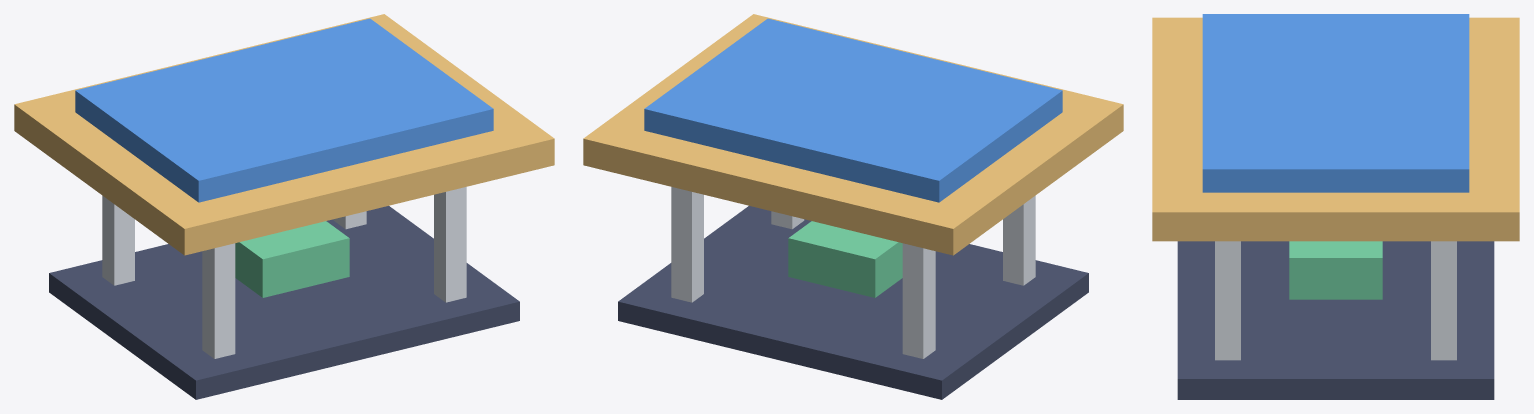
The model's file is demo-pavilion.glb.
3 renders of one model, left to right at view 1: azimuth 30°, elevation 25°; view 2: azimuth 150°, elevation 25°; view 3: azimuth 270°, elevation 25°, orthographic. The views are drawn at different scales.
Parts seen in each view (by area): view 1: demo-pavilion; view 2: demo-pavilion; view 3: demo-pavilion.
Boxes of the visible parts, x1=… form: demo-pavilion: x1=14, y1=14, x2=554, y2=399; demo-pavilion: x1=583, y1=14, x2=1123, y2=399; demo-pavilion: x1=1152, y1=14, x2=1519, y2=399.
Size of the model in its own units: 3.2 by 1.71 by 2.55.
